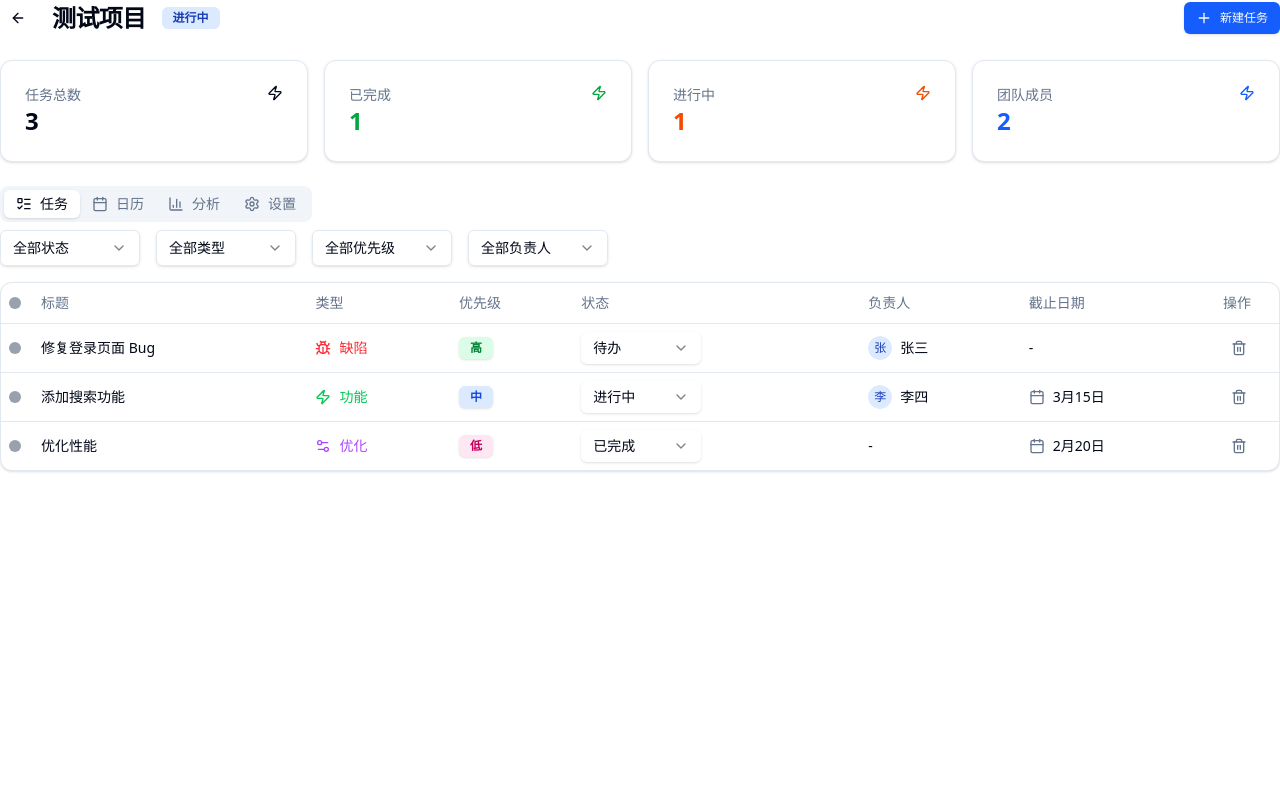
ProjectBoardPage › 删除任务 › 点击删除按钮应该打开确认弹窗
Expected: the text "修复登录页面 Bug" is shown, left=33, top=323, right=307, bottom=372
Click the button without text in the row of "修复登录页面 Bug" at (1239, 348), box left=1223, top=332, right=1255, bottom=364
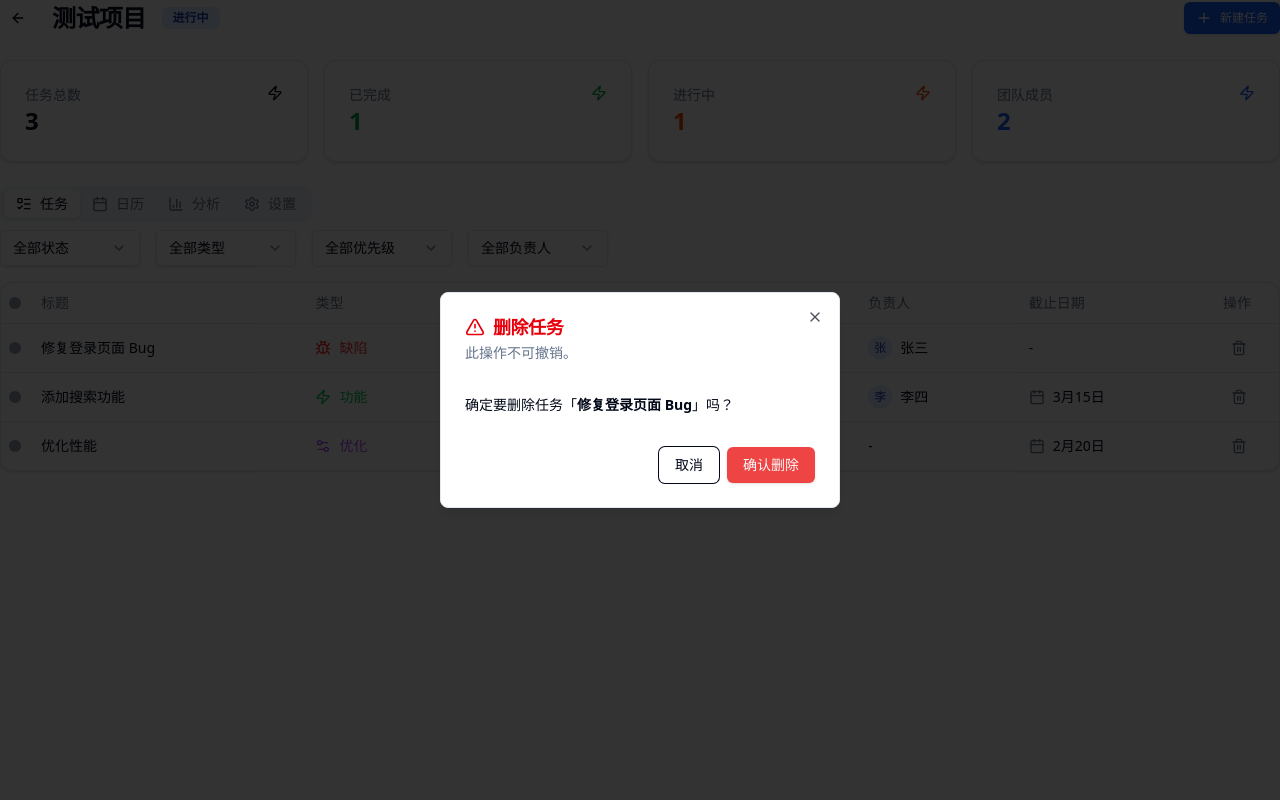
Expected: the button "确认删除" is shown, left=727, top=447, right=815, bottom=483
